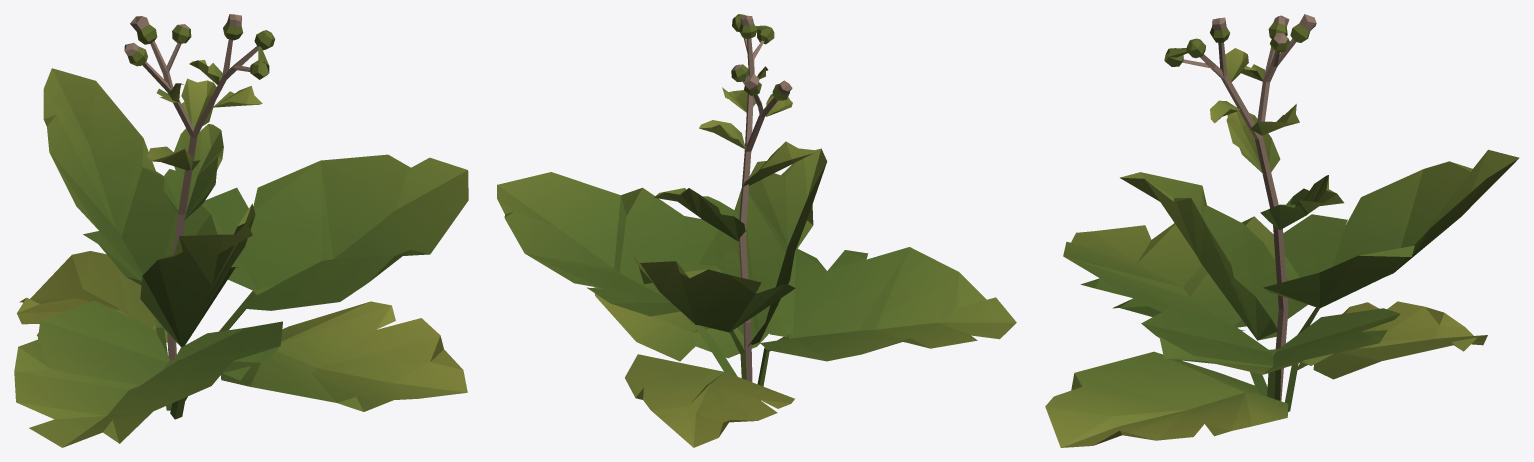
The model's file is zone2-c1.glb.
3 views of the same model, side by side, from view 1: azimuth 30°, elevation 25°; view 2: azimuth 150°, elevation 25°; view 3: azimuth 270°, elevation 25° (orthographic). The views are drawn at different scales.
Visible parts, largest first — view 1: bush-burdock-dry-mature-flowering-a.001; view 2: bush-burdock-dry-mature-flowering-a.001; view 3: bush-burdock-dry-mature-flowering-a.001.
Boxes of the visible parts, box(x1,y1,x2,y2) form: bush-burdock-dry-mature-flowering-a.001: box(14, 14, 468, 447); bush-burdock-dry-mature-flowering-a.001: box(497, 14, 1016, 447); bush-burdock-dry-mature-flowering-a.001: box(1045, 14, 1519, 447).
Size of the model in its own units: 23.07 by 18.27 by 19.11.
Materials: 2 (1 with a texture image).
